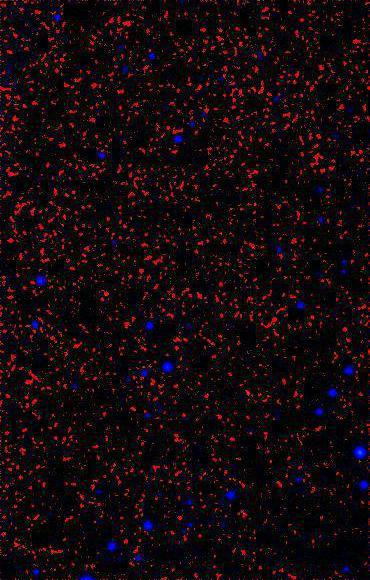star: (348, 438, 370, 468)
